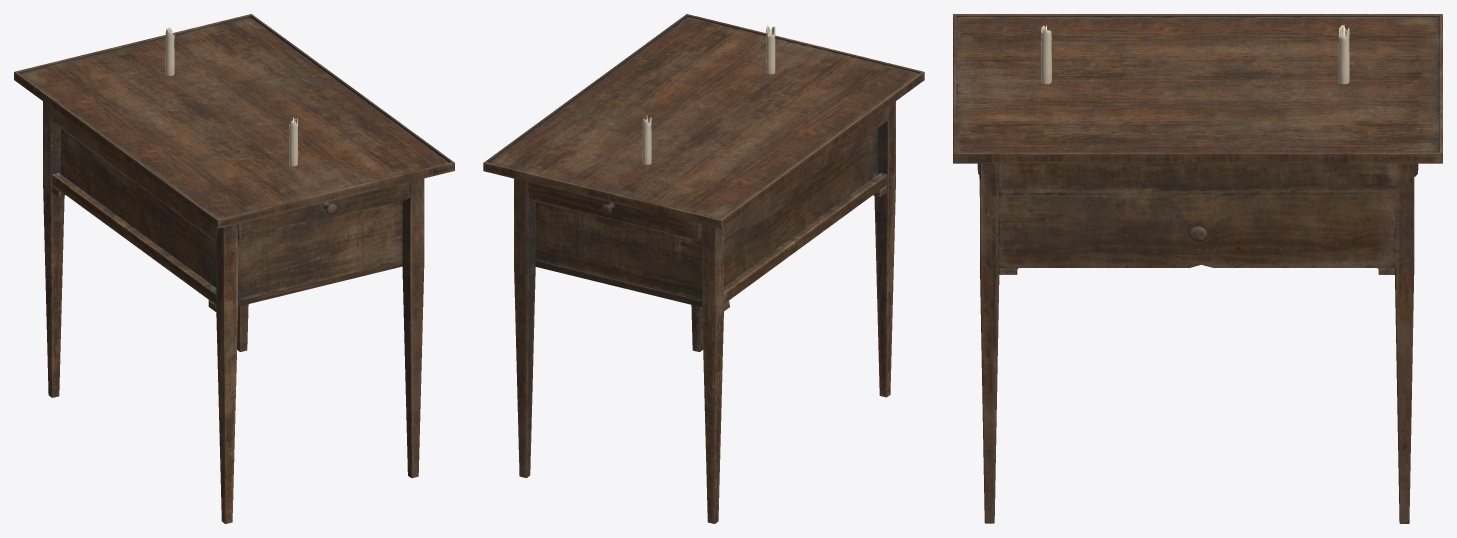
File: desk_candle.glb
The picture shows the model from 3 angles, left to right: view 1: azimuth 30°, elevation 25°; view 2: azimuth 150°, elevation 25°; view 3: azimuth 270°, elevation 25°; orthographic projection. The views are drawn at different scales.
Parts seen in each view (by area): view 1: SM_Table_Small_01a; view 2: SM_Table_Small_01a; view 3: SM_Table_Small_01a, simple_candle2, simple_candle.
Boxes of the visible parts, x1,y1,x2,y2 form: SM_Table_Small_01a: [14, 14, 454, 523]; SM_Table_Small_01a: [483, 14, 924, 523]; SM_Table_Small_01a: [953, 14, 1442, 523]; simple_candle2: [1338, 25, 1349, 84]; simple_candle: [1041, 25, 1051, 84].
Size of the model in its own units: 0.6114 by 0.8975 by 0.9054.
3 materials, 3 textured.
